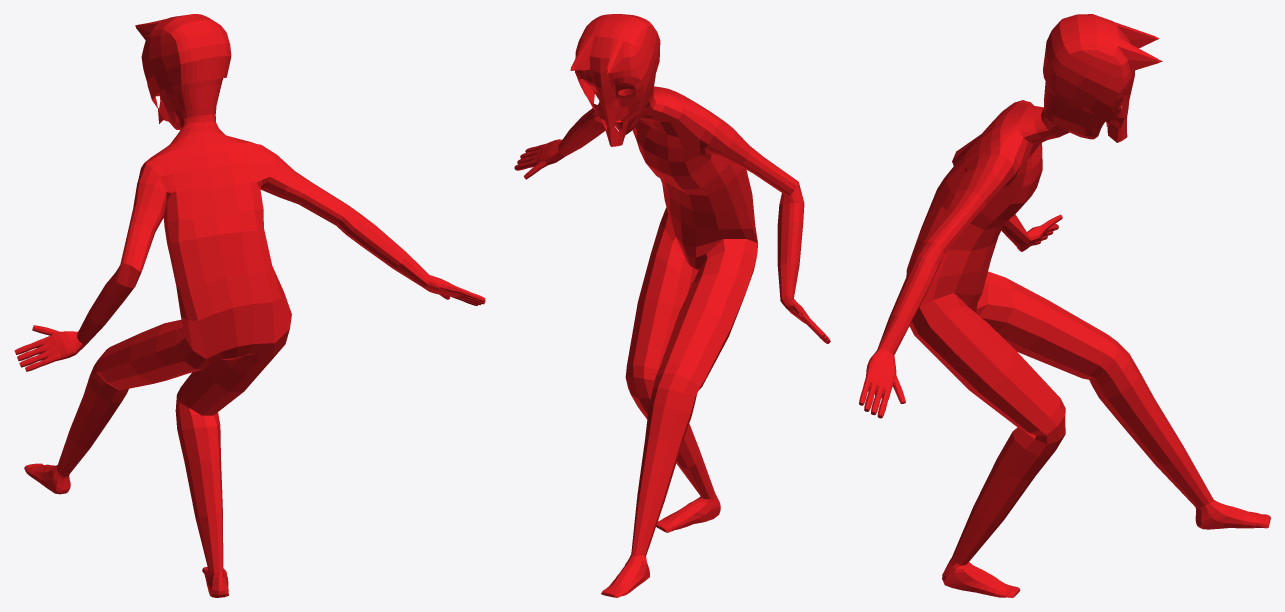
The model's file is saltoadelanteE_000131.obj.
The picture shows the model from 3 angles, left to right: view 1: azimuth 30°, elevation 25°; view 2: azimuth 150°, elevation 25°; view 3: azimuth 270°, elevation 25°; orthographic projection. The views are drawn at different scales.
Parts seen in each view (by area): view 1: Plane.002_Plane.001; view 2: Plane.002_Plane.001; view 3: Plane.002_Plane.001.
Part boxes in pixels (x1,y1,x2,y2): Plane.002_Plane.001: (14, 14, 485, 597); Plane.002_Plane.001: (514, 14, 830, 597); Plane.002_Plane.001: (859, 14, 1270, 597).
Size of the model in its own units: 4.56 by 5.97 by 3.84.
